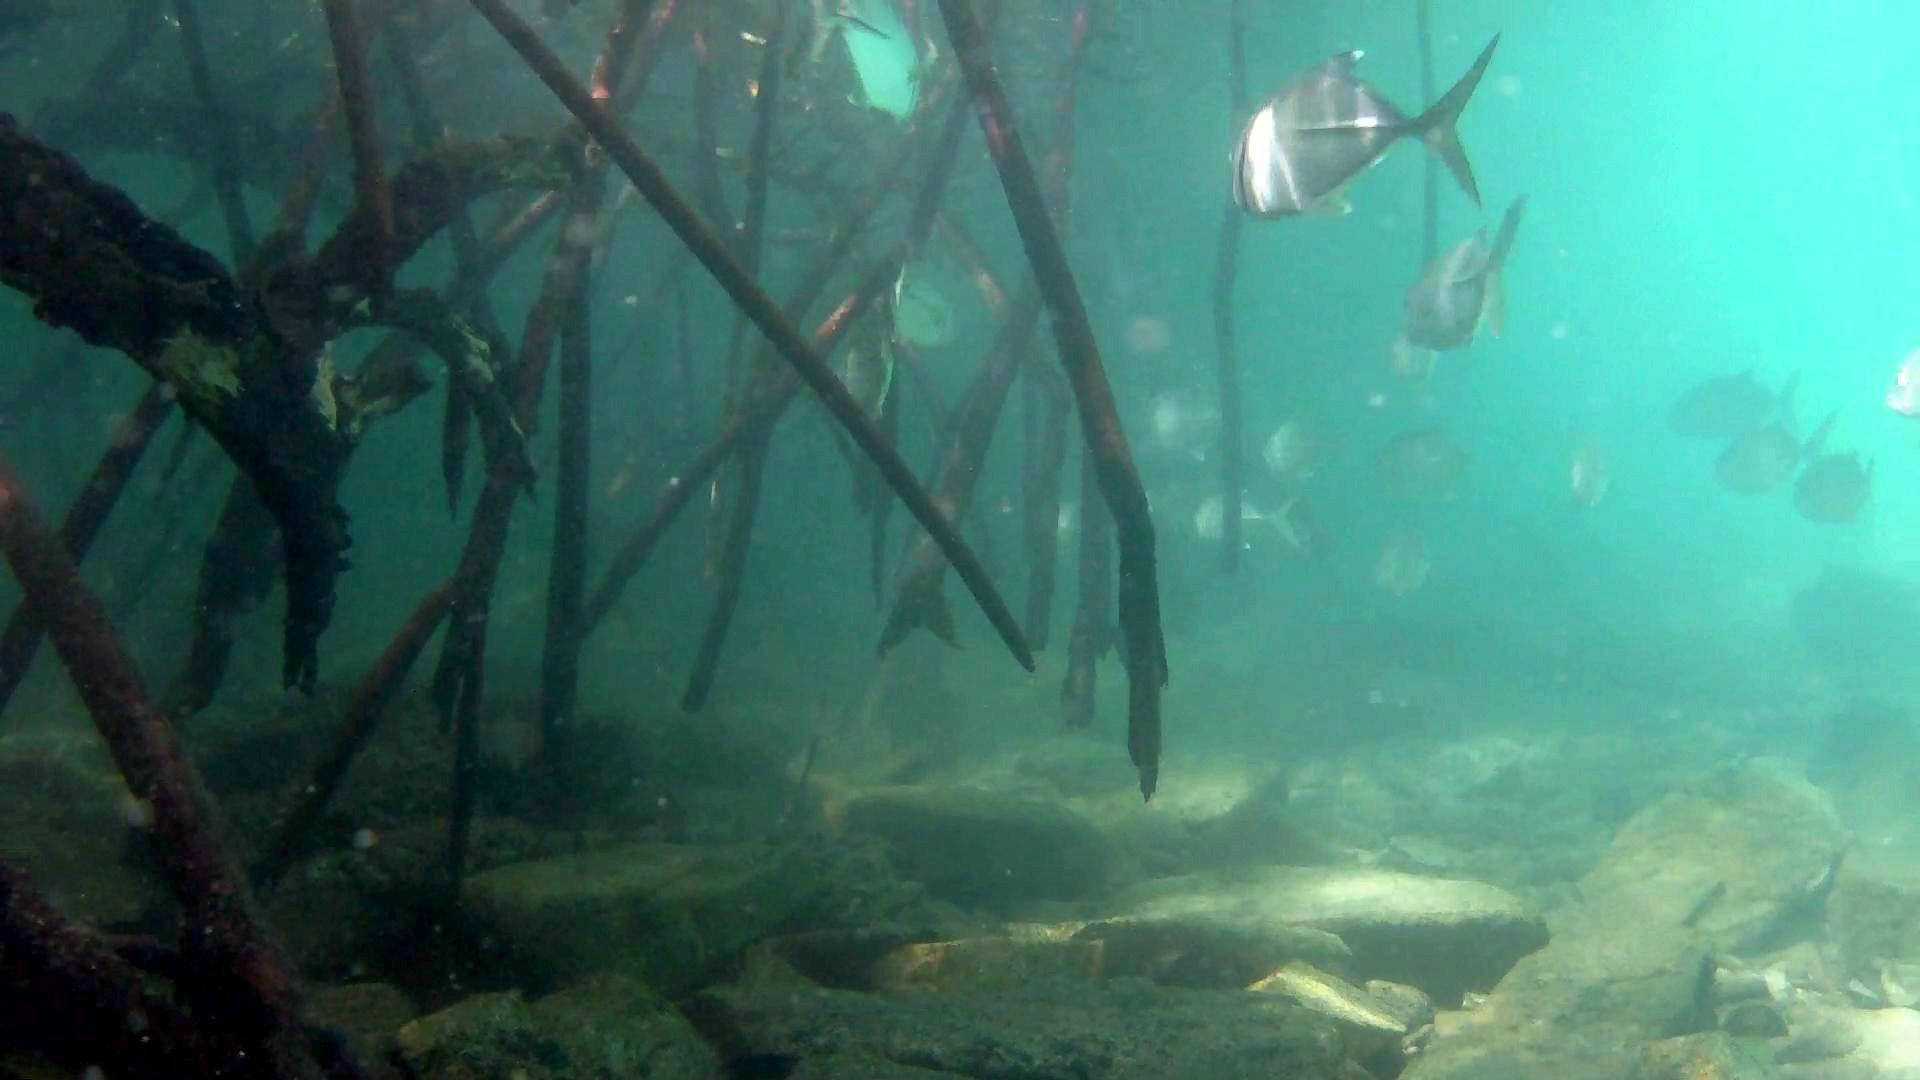caranx: (1222, 34, 1502, 229), (799, 0, 936, 125)
